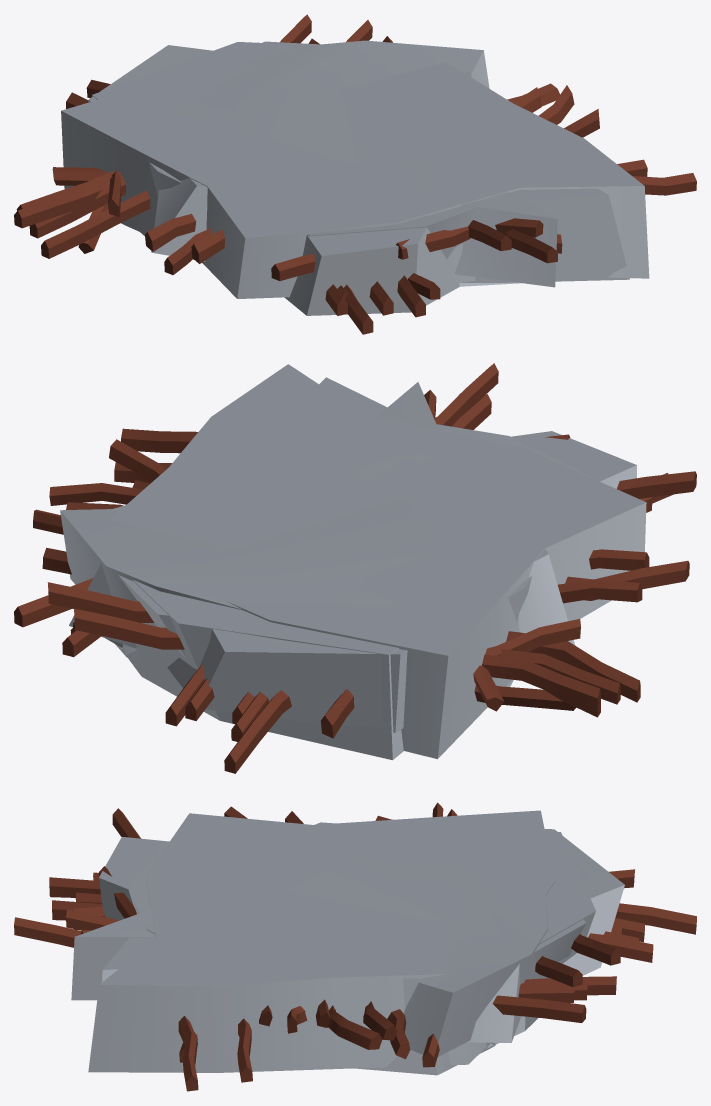
Rendered from debris.fbx.
The picture shows the model from 3 angles, top to bottom: view 1: azimuth 30°, elevation 25°; view 2: azimuth 150°, elevation 25°; view 3: azimuth 270°, elevation 25°; orthographic projection. The views are drawn at different scales.
Visible parts, largest first — view 1: Chunk_01, Chunk_05, Chunk_03, Chunk_02, Chunk_04; view 2: Chunk_01, Chunk_05, Chunk_04, Chunk_02, Chunk_03; view 3: Chunk_01, Chunk_05, Chunk_04, Chunk_02, Chunk_03.
Part boxes in pixels (x1,y1,x2,y2): Chunk_01: (14,38,696,315); Chunk_05: (52,36,599,317); Chunk_03: (41,20,543,334); Chunk_02: (16,14,647,299); Chunk_04: (29,45,541,315); Chunk_01: (49,364,696,759); Chunk_05: (14,363,649,741); Chunk_04: (42,394,642,773); Chunk_02: (70,377,600,760); Chunk_03: (47,390,673,723); Chunk_01: (88,802,639,1091); Chunk_05: (14,822,644,1059); Chunk_04: (66,811,696,1067); Chunk_02: (73,809,653,1082); Chunk_03: (49,815,621,1075).
Bounding box in the file's own units: 49.81 × 8.17 × 53.77.
Materials: 1 (1 with a texture image).
